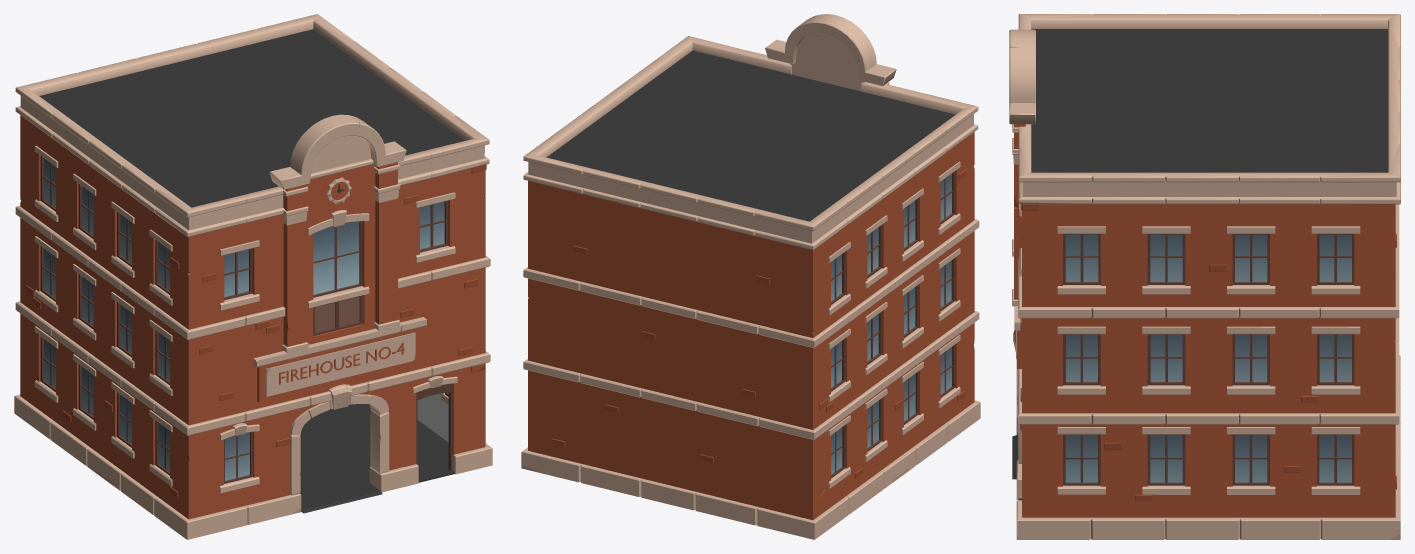
Rendered from SM_Buildings_FireStation_01.fbx.
3 renders of one model, left to right at view 1: azimuth 30°, elevation 25°; view 2: azimuth 150°, elevation 25°; view 3: azimuth 270°, elevation 25°, orthographic. The views are drawn at different scales.
Parts seen in each view (by area): view 1: SM_Buildings_FireStation_01; view 2: SM_Buildings_FireStation_01; view 3: SM_Buildings_FireStation_01.
Part boxes in pixels (x1=…): SM_Buildings_FireStation_01: x1=14, y1=14, x2=492, y2=539; SM_Buildings_FireStation_01: x1=521, y1=14, x2=980, y2=539; SM_Buildings_FireStation_01: x1=1009, y1=14, x2=1400, y2=539.
Bounding box in the file's own units: 10.5 × 12.5 × 10.5.
